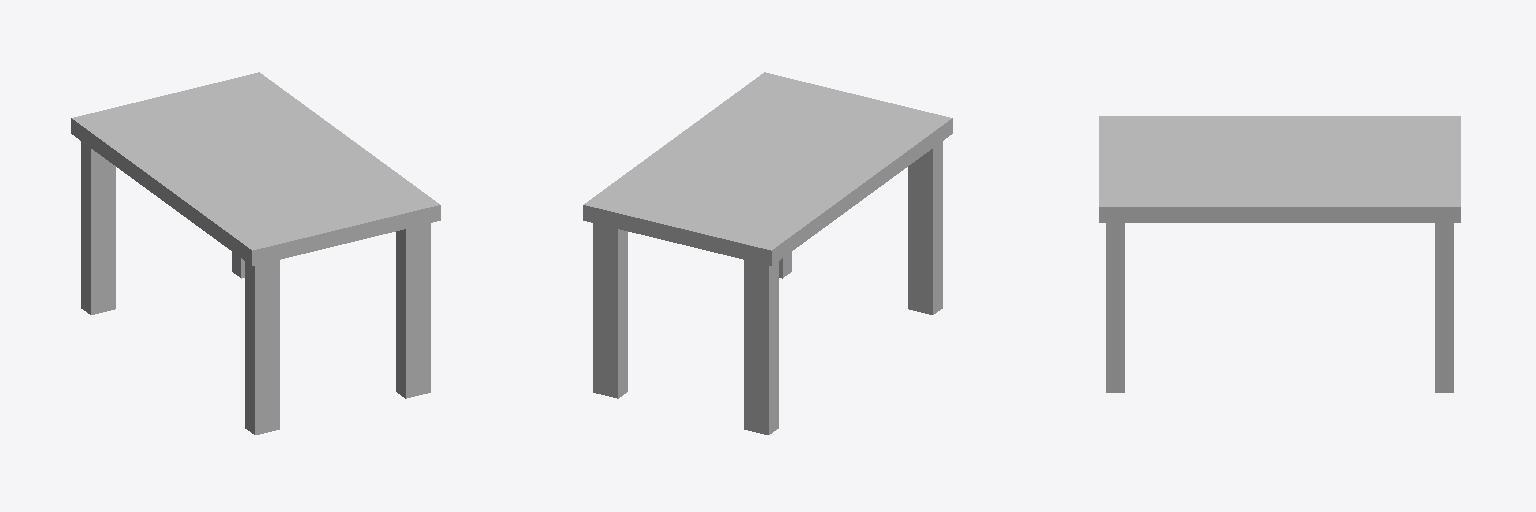
Rendered from table.obj.
3 views of the same model, side by side, from view 1: azimuth 30°, elevation 25°; view 2: azimuth 150°, elevation 25°; view 3: azimuth 270°, elevation 25° (orthographic).
Visible parts, largest first — view 1: Box05; view 2: Box05; view 3: Box05.
Boxes of the visible parts, x1=… form: Box05: x1=71, y1=72, x2=440, y2=434; Box05: x1=583, y1=72, x2=952, y2=434; Box05: x1=1099, y1=116, x2=1460, y2=392.
Bounding box in the file's own units: 2.95 × 2.83 × 4.92.